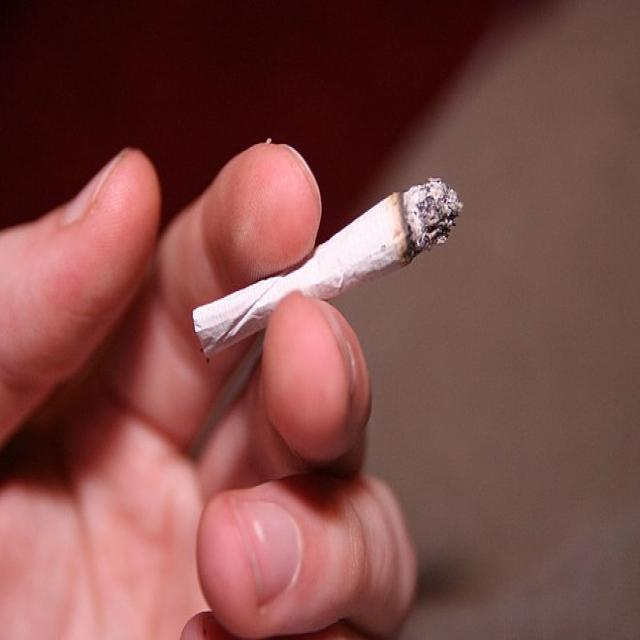rokok: (194, 171, 452, 359)
